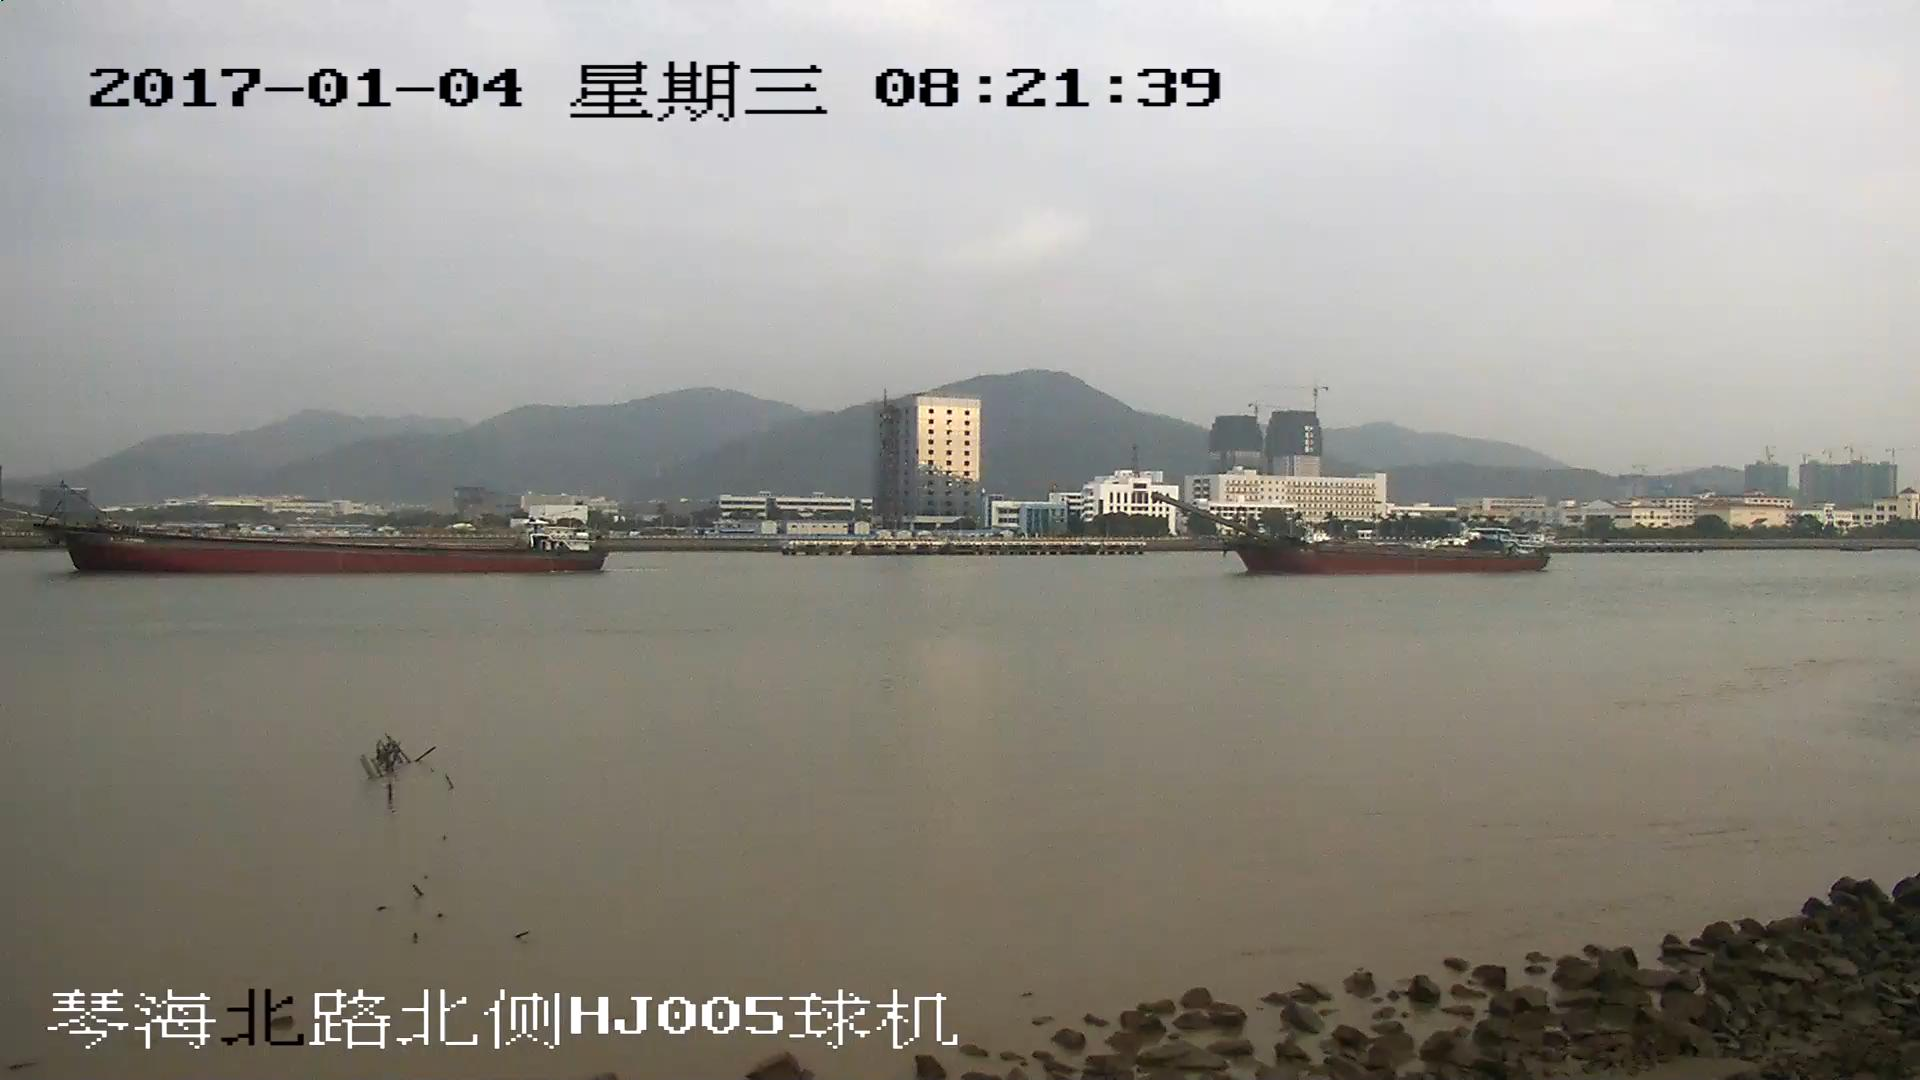bulk cargo carrier: (1, 493, 609, 569), (1156, 488, 1546, 570)
